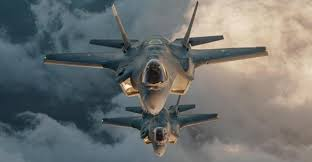fighter: (42, 3, 272, 114), (98, 91, 221, 157)
